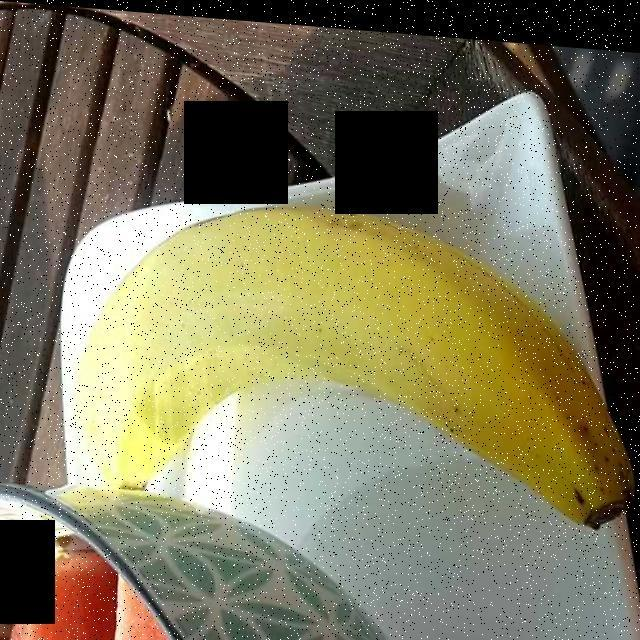banana: (86, 212, 619, 500)
